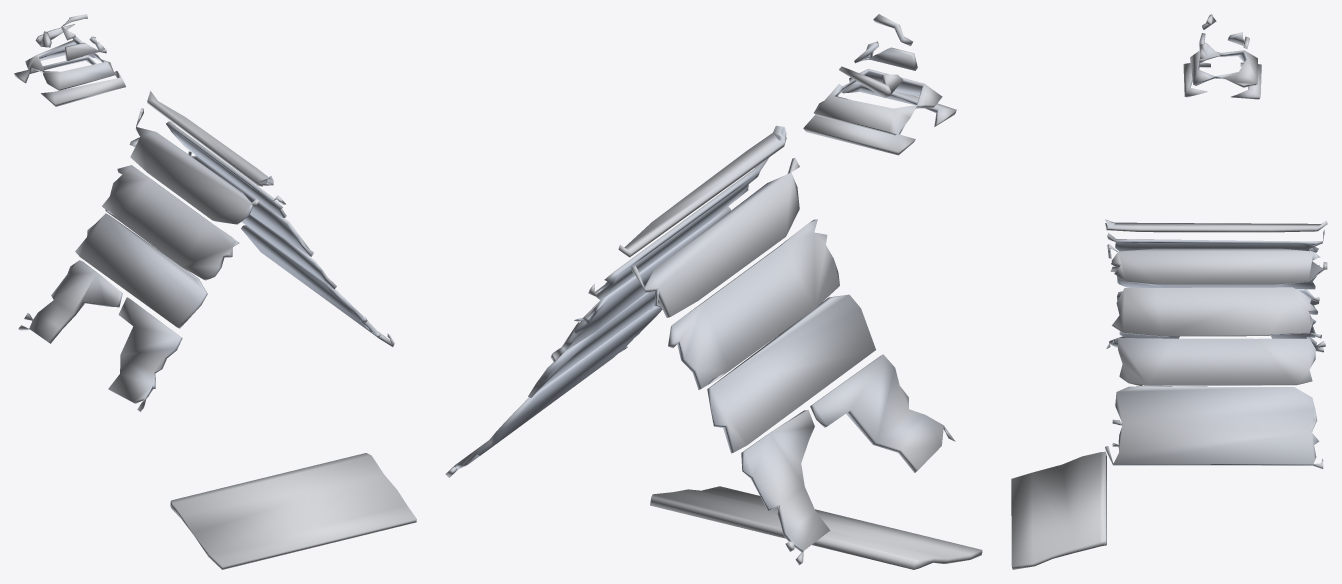
Rendered from protocol.ens.snow.glb.
3 views of the same model, side by side, from view 1: azimuth 30°, elevation 25°; view 2: azimuth 150°, elevation 25°; view 3: azimuth 270°, elevation 25° (orthographic). The views are drawn at different scales.
Visible parts, largest first — view 1: building.protocol.ens.snow.mesh; view 2: building.protocol.ens.snow.mesh; view 3: building.protocol.ens.snow.mesh.
Part boxes in pixels (x1,y1,x2,y2): building.protocol.ens.snow.mesh: [14, 14, 416, 569]; building.protocol.ens.snow.mesh: [445, 14, 982, 569]; building.protocol.ens.snow.mesh: [1011, 14, 1327, 569].
Size of the model in its own units: 5.14 by 7.85 by 5.01.
